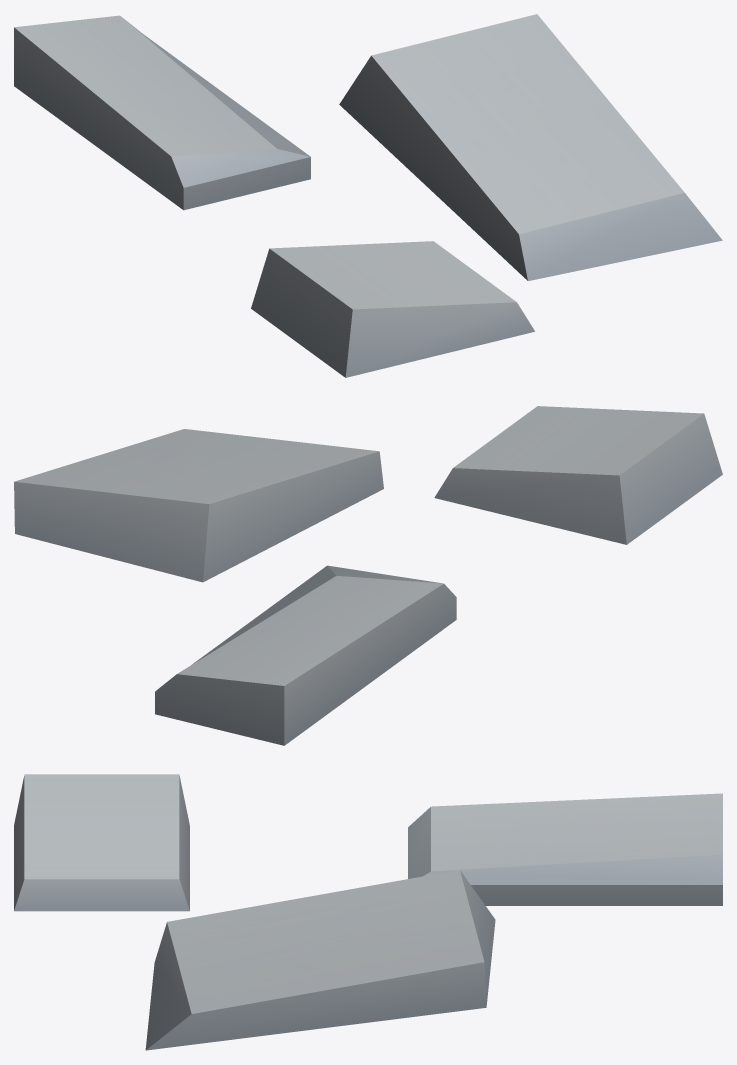
File: StoneRoad01.fbx
The picture shows the model from 3 angles, top to bottom: view 1: azimuth 30°, elevation 25°; view 2: azimuth 150°, elevation 25°; view 3: azimuth 270°, elevation 25°; orthographic projection. The views are drawn at different scales.
Visible parts, largest first — view 1: pCube96; view 2: pCube96; view 3: pCube96.
Part boxes in pixels (x1,y1,x2,y2): pCube96: (14,14,722,377); pCube96: (14,406,722,745); pCube96: (14,774,722,1050).
Size of the model in its own units: 1.53 by 0.3436 by 2.25.
1 material, 1 textured.
